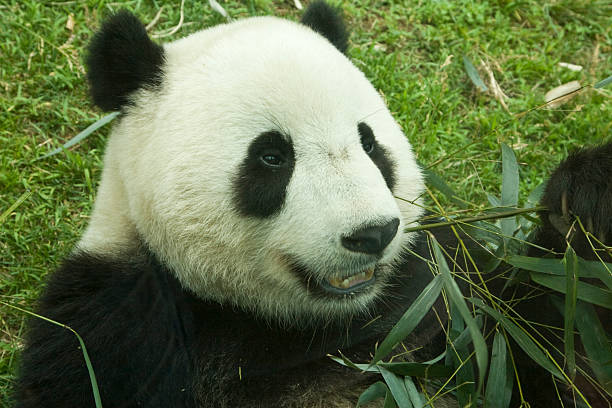panda: (72, 4, 484, 359)
